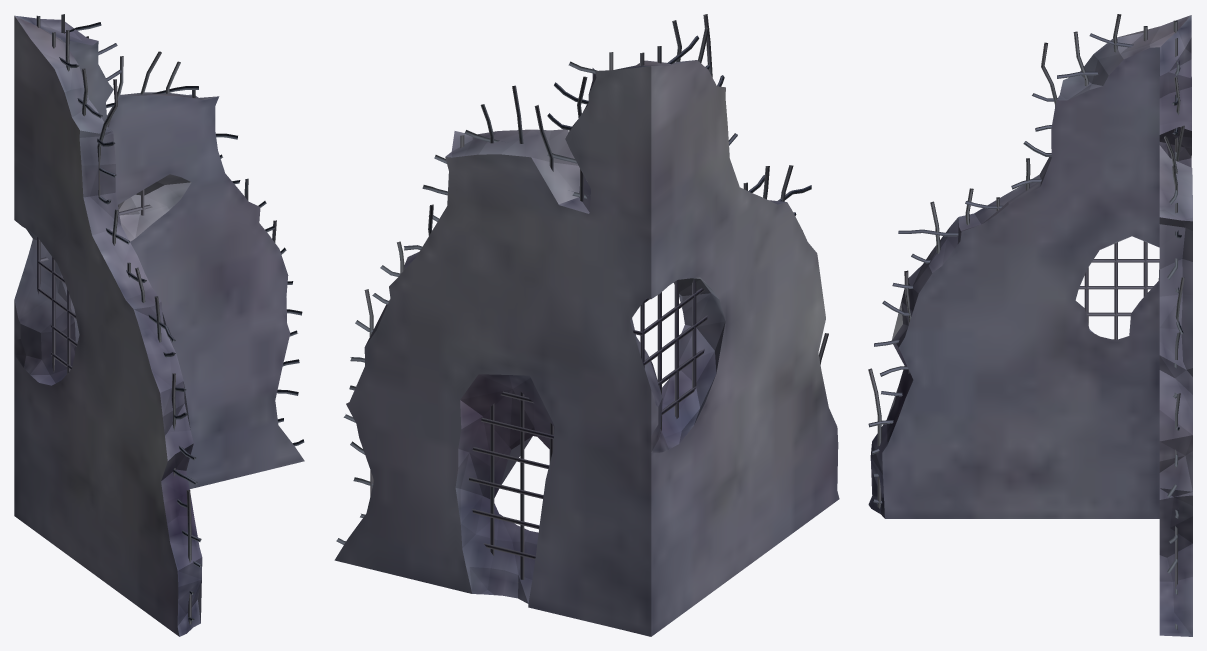
File: broken-wall-corner.gltf
3 views of the same model, side by side, from view 1: azimuth 30°, elevation 25°; view 2: azimuth 150°, elevation 25°; view 3: azimuth 270°, elevation 25° (orthographic). The views are drawn at different scales.
Visible parts, largest first — view 1: broken_concrete_wall_cornor_001.001; view 2: broken_concrete_wall_cornor_001.001; view 3: broken_concrete_wall_cornor_001.001.
Part boxes in pixels (left/top/right/bottom): broken_concrete_wall_cornor_001.001: left=14, top=14, right=304, bottom=636; broken_concrete_wall_cornor_001.001: left=334, top=14, right=839, bottom=636; broken_concrete_wall_cornor_001.001: left=868, top=14, right=1192, bottom=636.
Size of the model in its own units: 1.04 by 1.79 by 1.06.
Materials: 1 (1 with a texture image).
